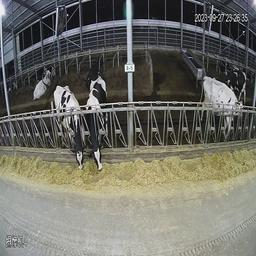cow: (52, 84, 85, 170), (214, 81, 252, 138), (87, 77, 109, 173), (223, 69, 243, 103), (32, 70, 53, 99), (86, 58, 103, 90)
